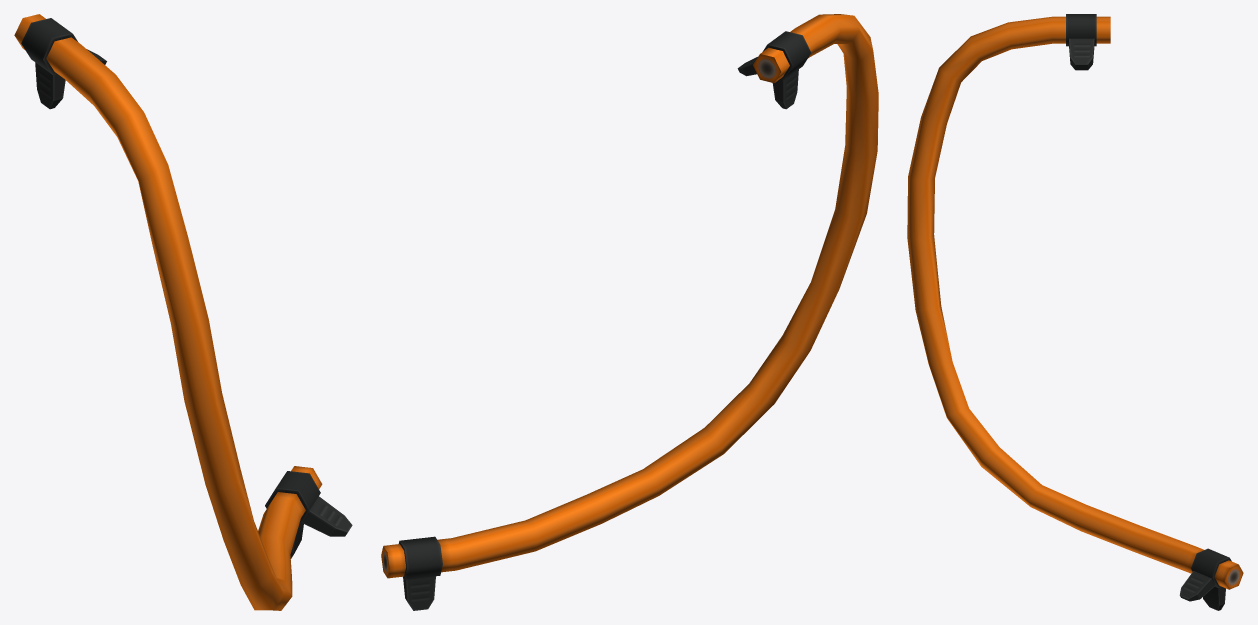
Rendered from jsf_GasRange_08d.fbx.
3 views of the same model, side by side, from view 1: azimuth 30°, elevation 25°; view 2: azimuth 150°, elevation 25°; view 3: azimuth 270°, elevation 25° (orthographic). The views are drawn at different scales.
Parts seen in each view (by area): view 1: GasHose; view 2: GasHose; view 3: GasHose.
Boxes of the visible parts, left/top/right/bottom form: GasHose: left=14, top=14, right=352, bottom=610; GasHose: left=381, top=14, right=878, bottom=610; GasHose: left=907, top=14, right=1243, bottom=610.
Bounding box in the file's own units: 20.99 × 34.33 × 21.93.
